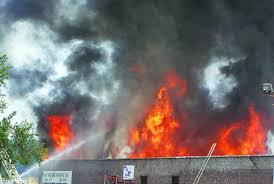fire: (139, 83, 186, 157), (216, 114, 268, 156), (50, 115, 73, 145)
smoke: (94, 0, 272, 82)
